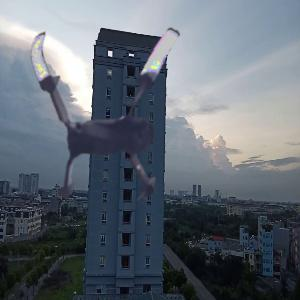drone: (1, 3, 229, 231)
